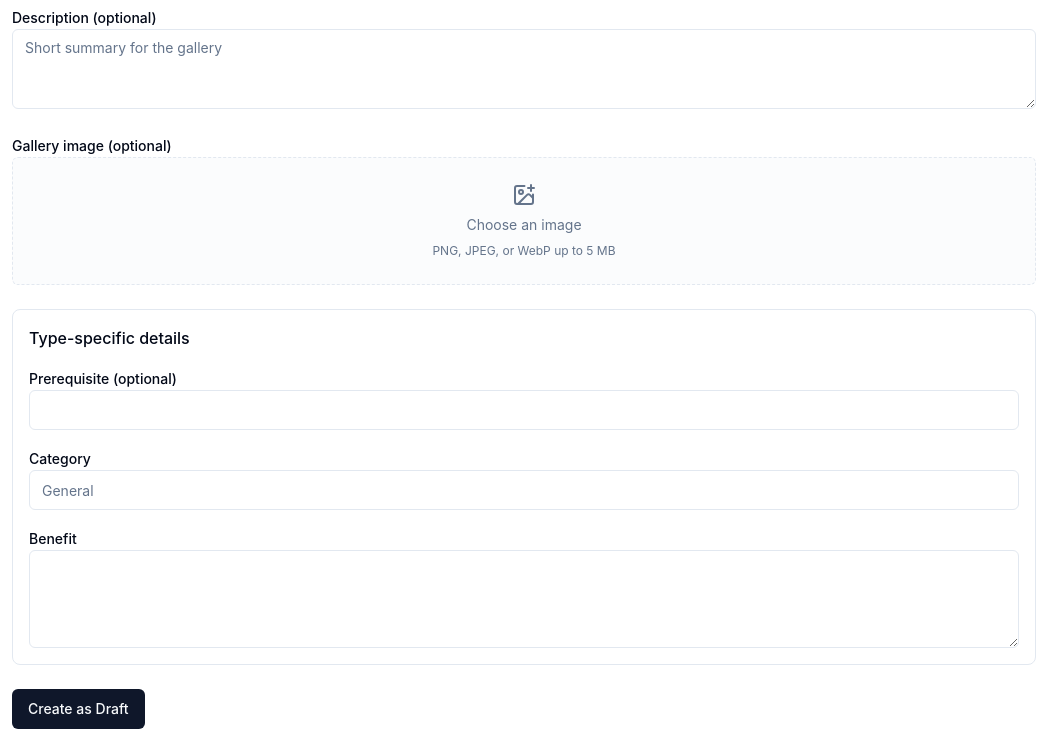
it: HomebrewForm › shows English validation errors when name is empty
(page scrolled)
Click the button "Create as Draft" at (78,709), box [12,689,144,728]
(page scrolled)
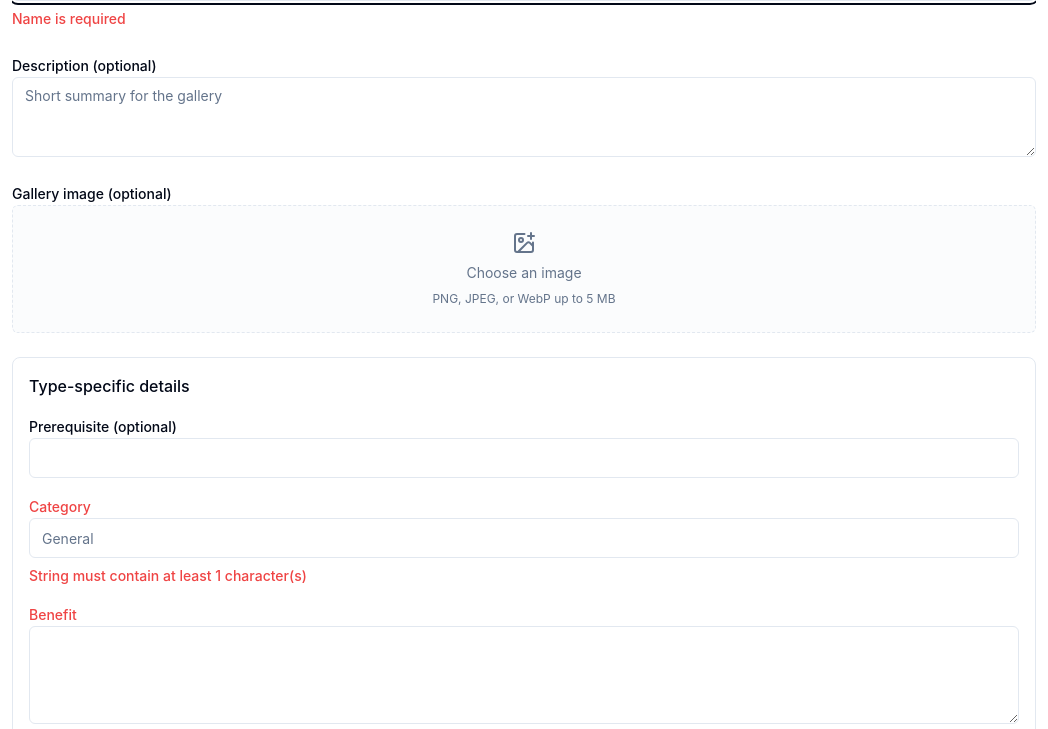
Expected: the text "Name is required" is shown, [12,10,126,27]
